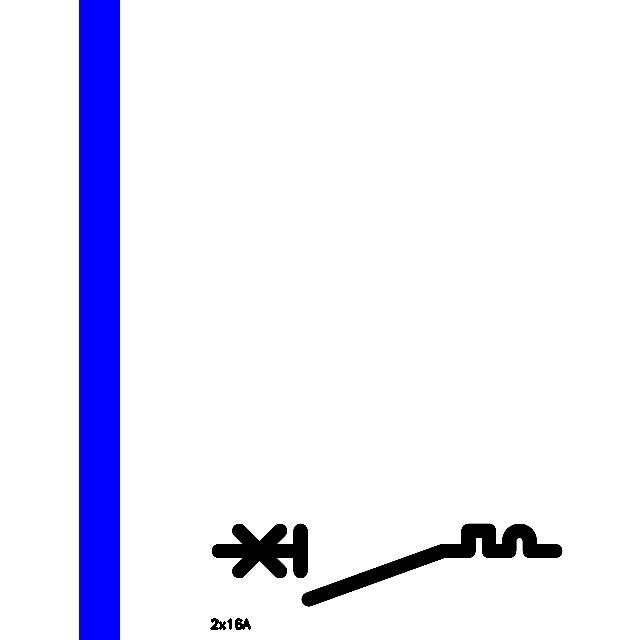interruptor_termomagnetico: (210, 522, 564, 608)
